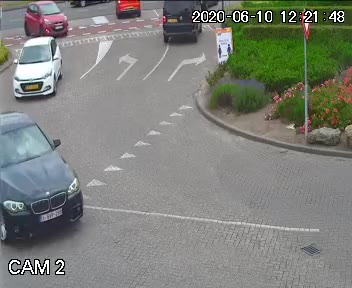car: (0, 113, 83, 244), (9, 40, 70, 103), (158, 3, 200, 43), (24, 3, 65, 35), (114, 0, 138, 19)
